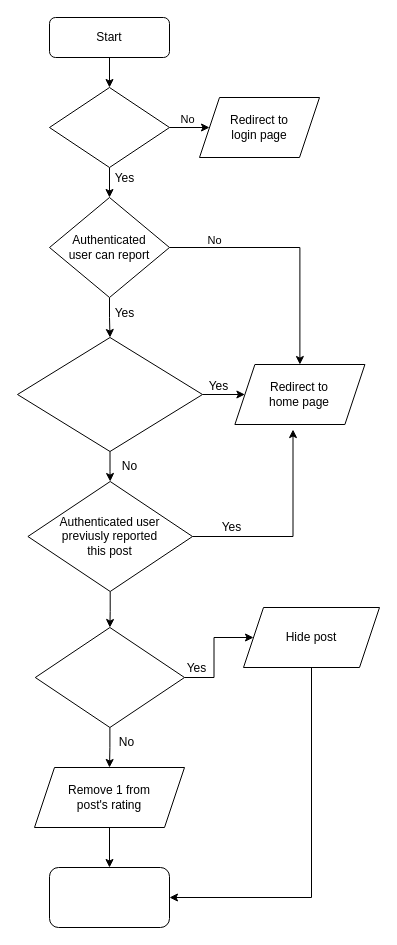
The diagram is 397 pixels wide and 945 high, and some of its shapes have lost their labels. The centre of each missing label's shape, as x and y in pixels:
Authenticated user matches with post's author: the point at 109,394
Post's rating is less than 1: the point at 109,677
Update database: the point at 109,897
User is authenticated?: the point at 109,127
